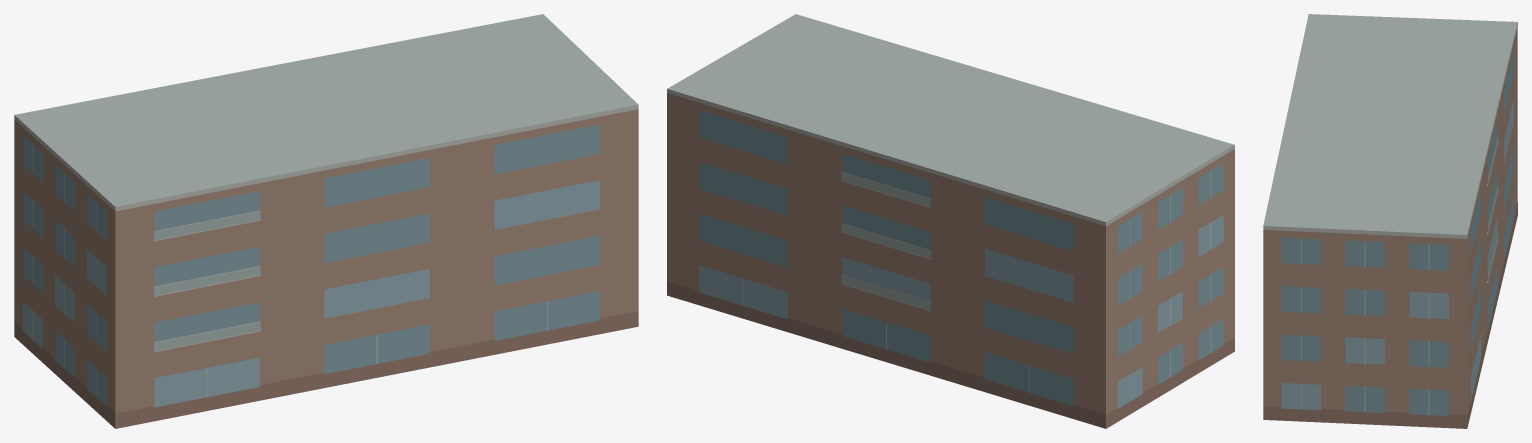
File: survey-upis-33008991.glb
3 renders of one model, left to right at view 1: azimuth 30°, elevation 25°; view 2: azimuth 150°, elevation 25°; view 3: azimuth 270°, elevation 25°, orthographic. The views are drawn at different scales.
Visible parts, largest first — view 1: survey-upis-33008991.tmp; view 2: survey-upis-33008991.tmp; view 3: survey-upis-33008991.tmp.
Boxes of the visible parts, box(x1,y1,x2,y2) form: survey-upis-33008991.tmp: box(14, 14, 638, 428); survey-upis-33008991.tmp: box(667, 14, 1234, 428); survey-upis-33008991.tmp: box(1263, 14, 1517, 428).
Size of the model in its own units: 29.85 by 12.2 by 14.53.
